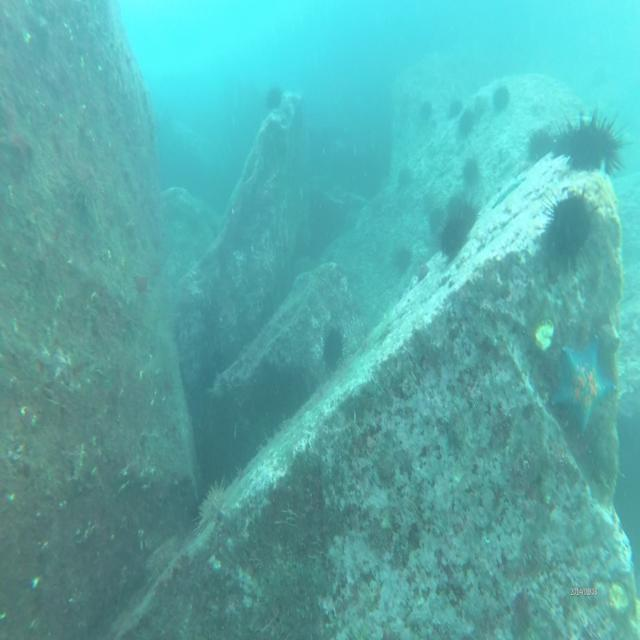echinus: (566, 107, 632, 184), (539, 183, 599, 267), (63, 148, 106, 222), (437, 207, 469, 260), (318, 324, 346, 374), (457, 190, 483, 237), (526, 123, 552, 161), (264, 76, 282, 115), (492, 83, 514, 113), (456, 106, 477, 137), (554, 122, 572, 158), (461, 157, 479, 187)
starfish: (551, 330, 616, 440)
